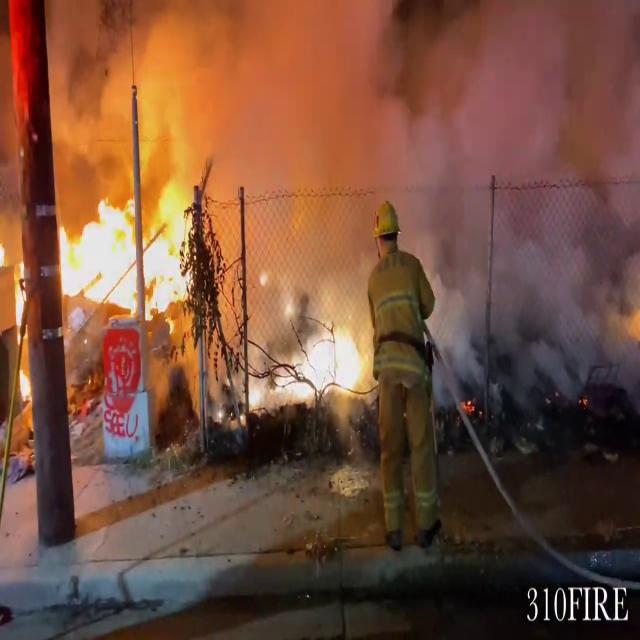Fire: (59, 180, 200, 324)
Smoke: (169, 0, 640, 390)
